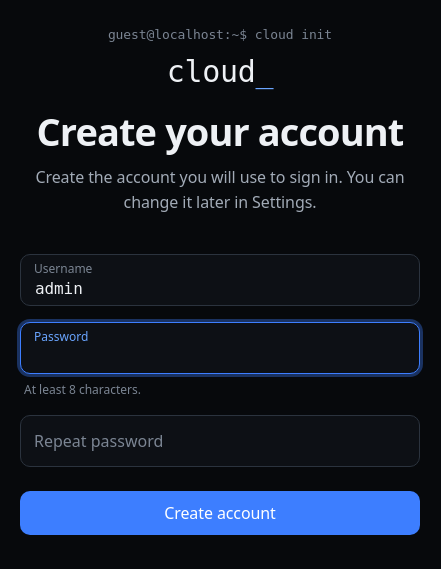
Scenario: SetupPage › validates before creating the account
Type "short" into the password field labelled "Password" at (220, 348), box [20, 322, 420, 374]
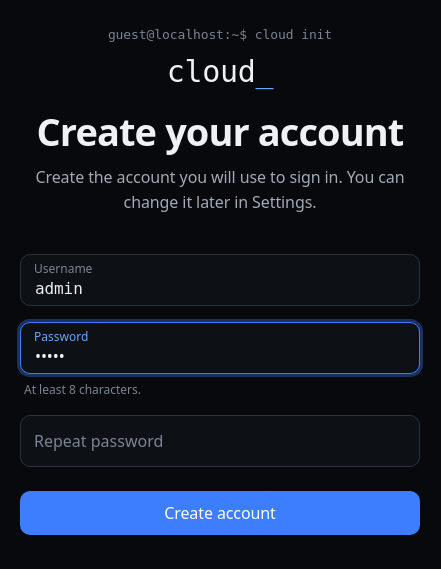
Type "other" into the password field labelled "Repeat password" at (220, 441), box [20, 415, 420, 467]
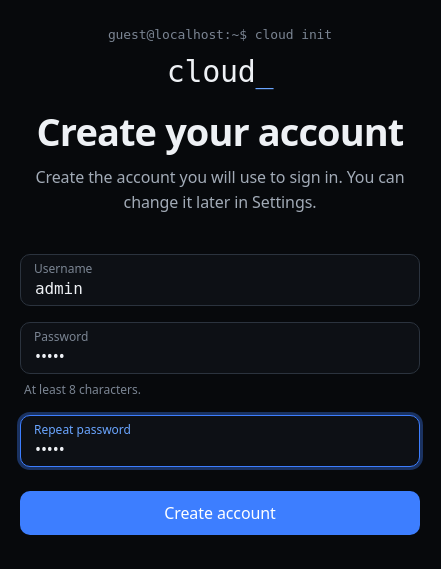
Click the button "Create account" at (220, 513), box [20, 491, 420, 535]
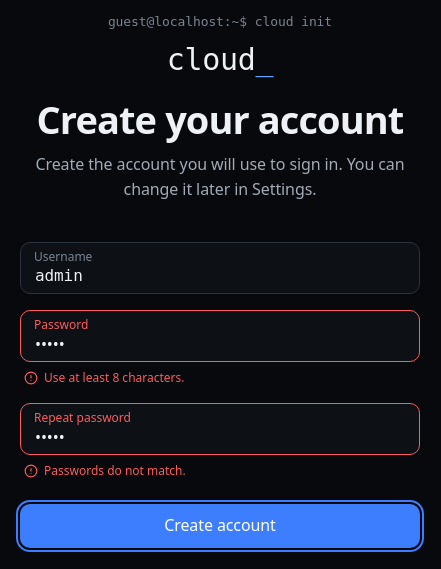
Expected: the text "Use at least 8 characters." is shown, [24, 369, 184, 386]
Expected: the text "Passwords do not match." is shown, [24, 462, 186, 479]
